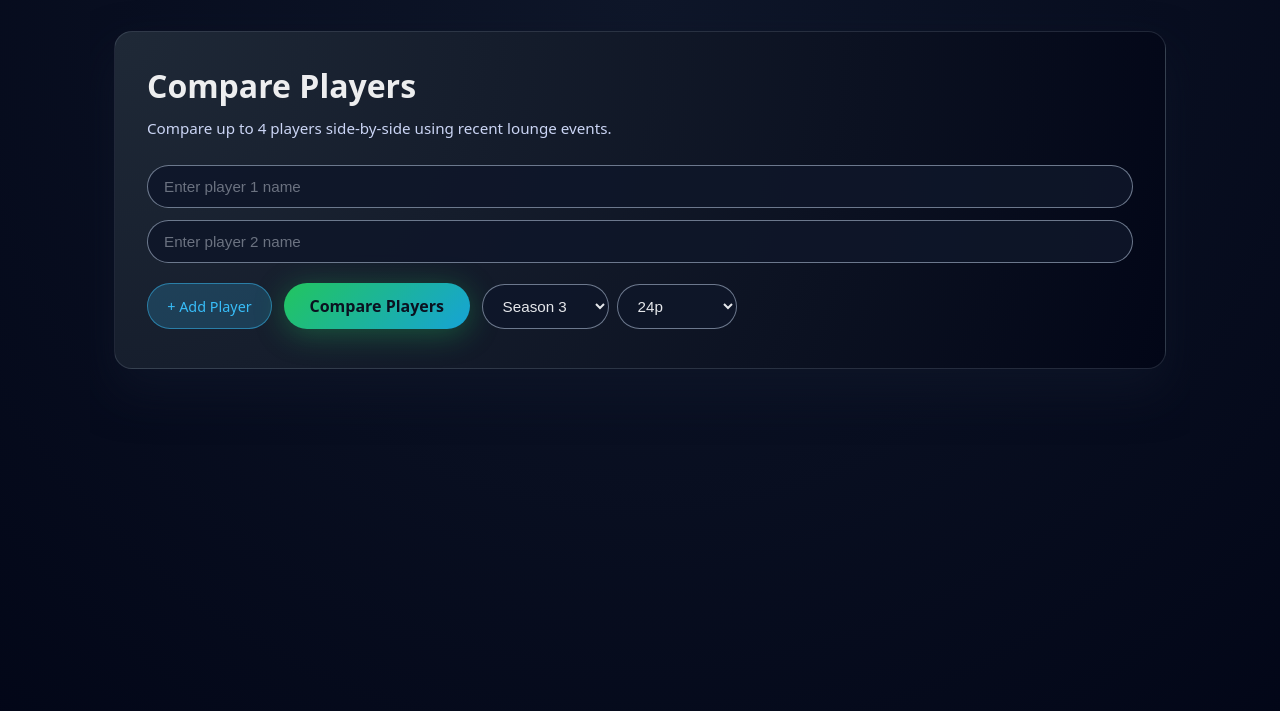
Scenario: PlayerComparison shareable links › writes the compared names into the URL
The width and height of the screenshot is (1280, 711).
In the dropdown labelled "player 1 name": {"x": 640, "y": 187} [147,165,1133,208], type "Amy"
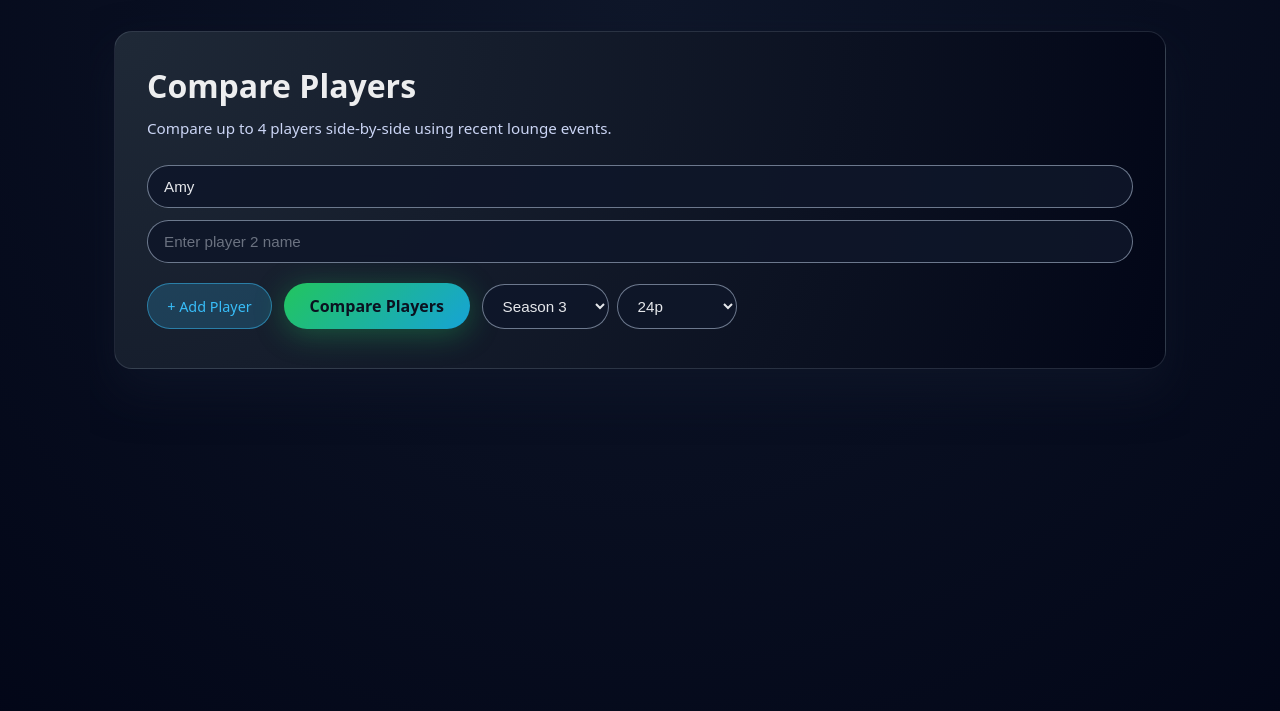
In the dropdown labelled "player 2 name": {"x": 640, "y": 242} [147,220,1133,263], type "Zed"
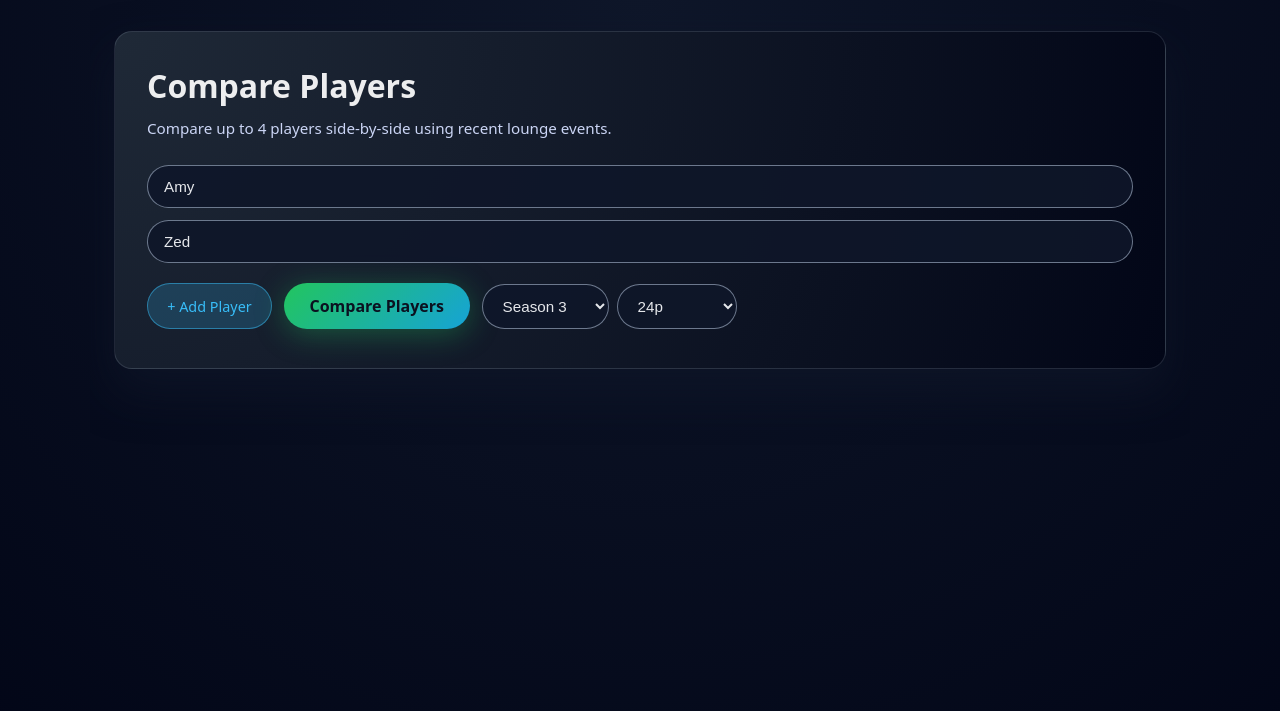
Click the button with aria-label "Compare selected players": {"x": 377, "y": 306} [284,283,470,329]
(page scrolled)
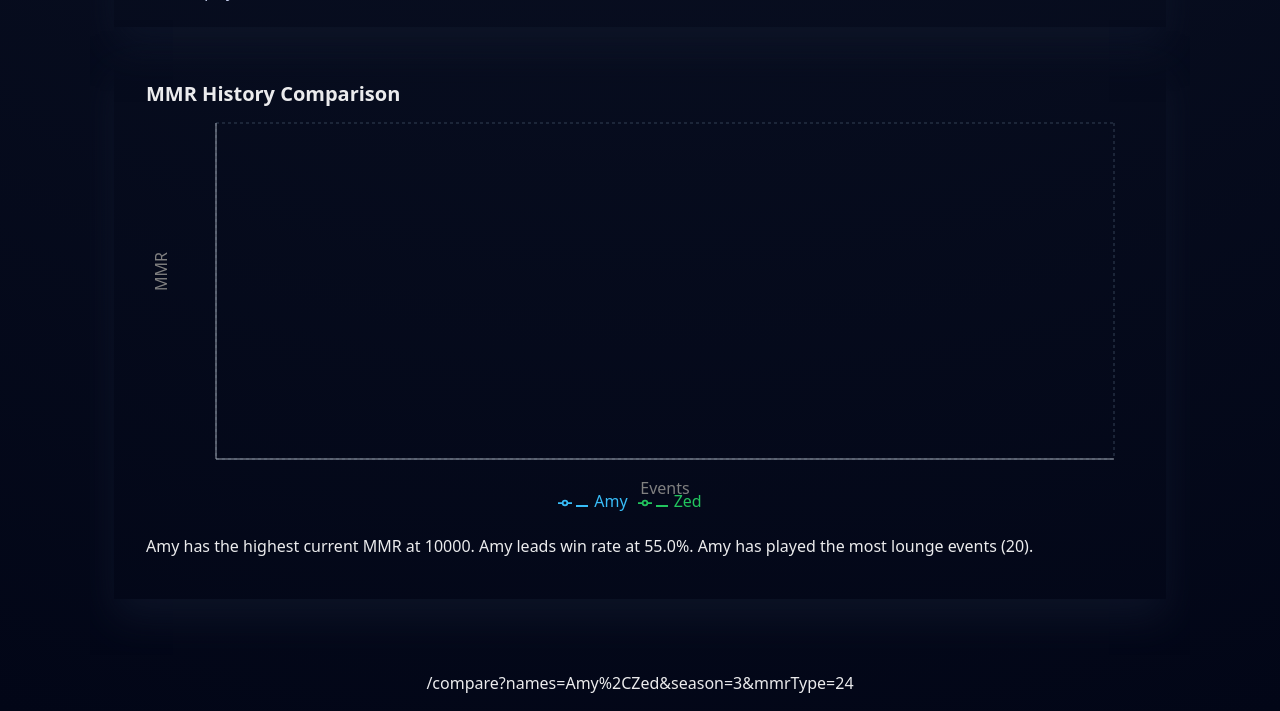
Check: the text with test id "location" reads "/compare?names=Amy%2CZed&season=3&mmrType=24", box [426,672,854,694]
